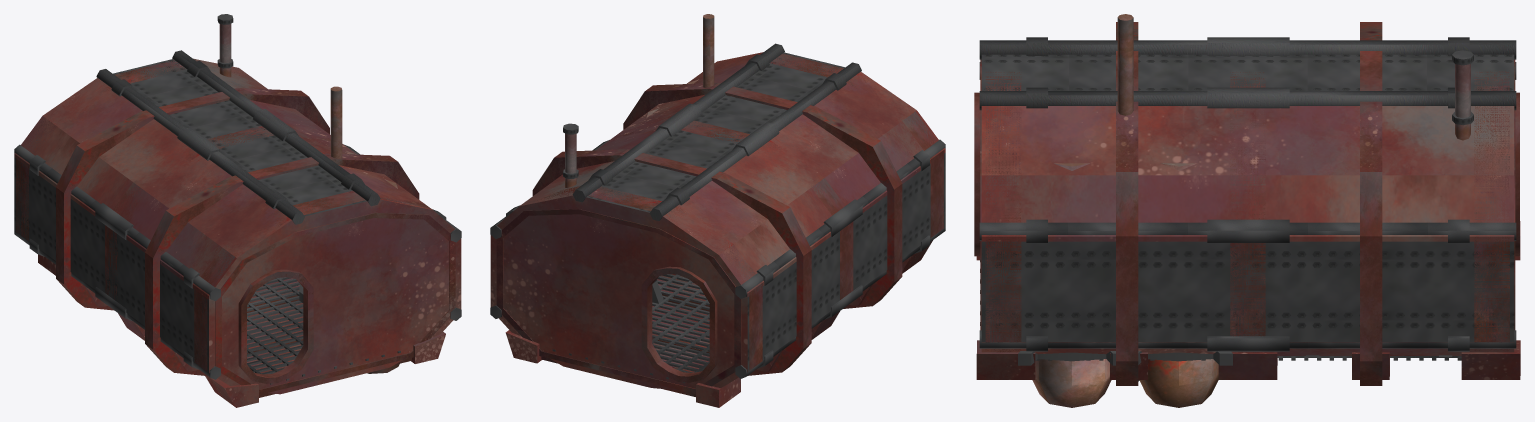
File: Oxygen_Room.obj
The picture shows the model from 3 angles, left to right: view 1: azimuth 30°, elevation 25°; view 2: azimuth 150°, elevation 25°; view 3: azimuth 270°, elevation 25°; orthographic projection. The views are drawn at different scales.
Parts seen in each view (by area): view 1: Cube.014; view 2: Cube.014; view 3: Cube.014.
Part boxes in pixels (bbox=[...]): Cube.014: bbox=[14, 14, 461, 407]; Cube.014: bbox=[490, 14, 945, 407]; Cube.014: bbox=[974, 14, 1520, 407].
Size of the model in its own units: 6.32 by 6.03 by 8.2.
Materials: 6 (6 with a texture image).
